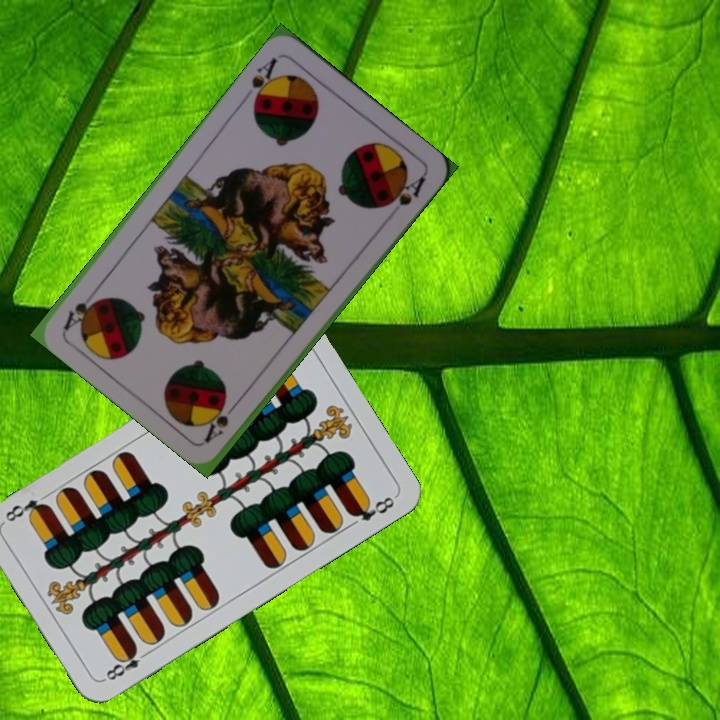E8: (99, 643, 153, 684)
SA: (201, 395, 244, 445), (247, 53, 281, 109)
